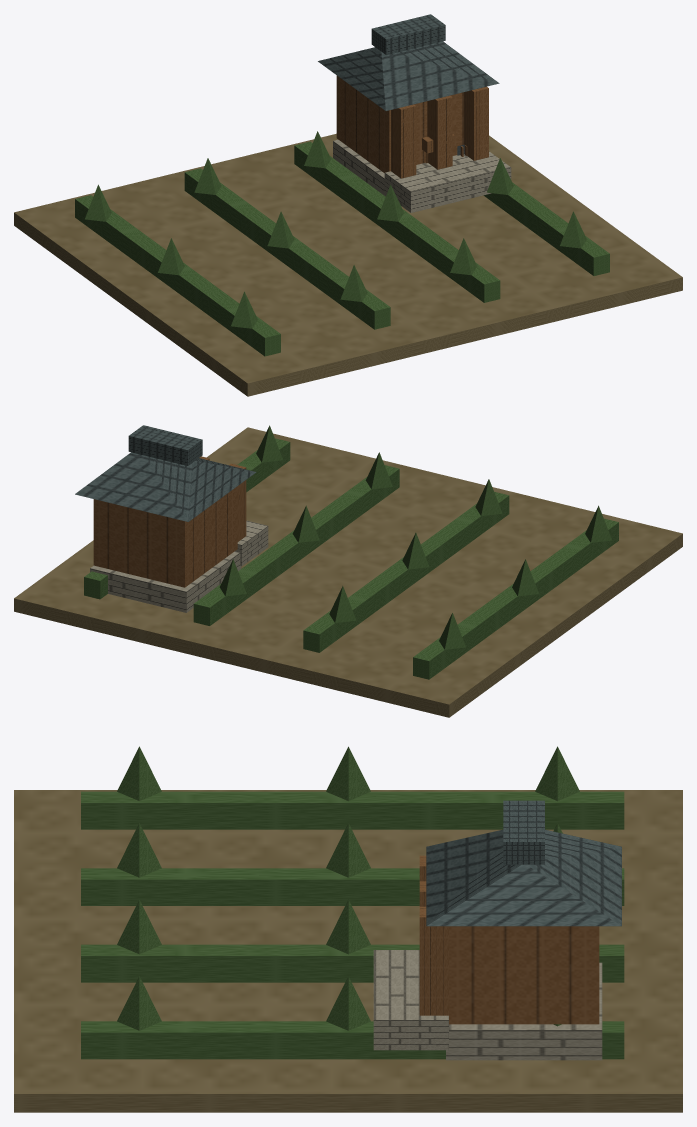
Rendered from domestic-FARM-1-lod0.glb.
3 views of the same model, one above another, from view 1: azimuth 30°, elevation 25°; view 2: azimuth 150°, elevation 25°; view 3: azimuth 270°, elevation 25° (orthographic). The views are drawn at different scales.
Bounding box in the file's own units: 0.86 × 0.296 × 0.8.
1 material, 1 textured.
